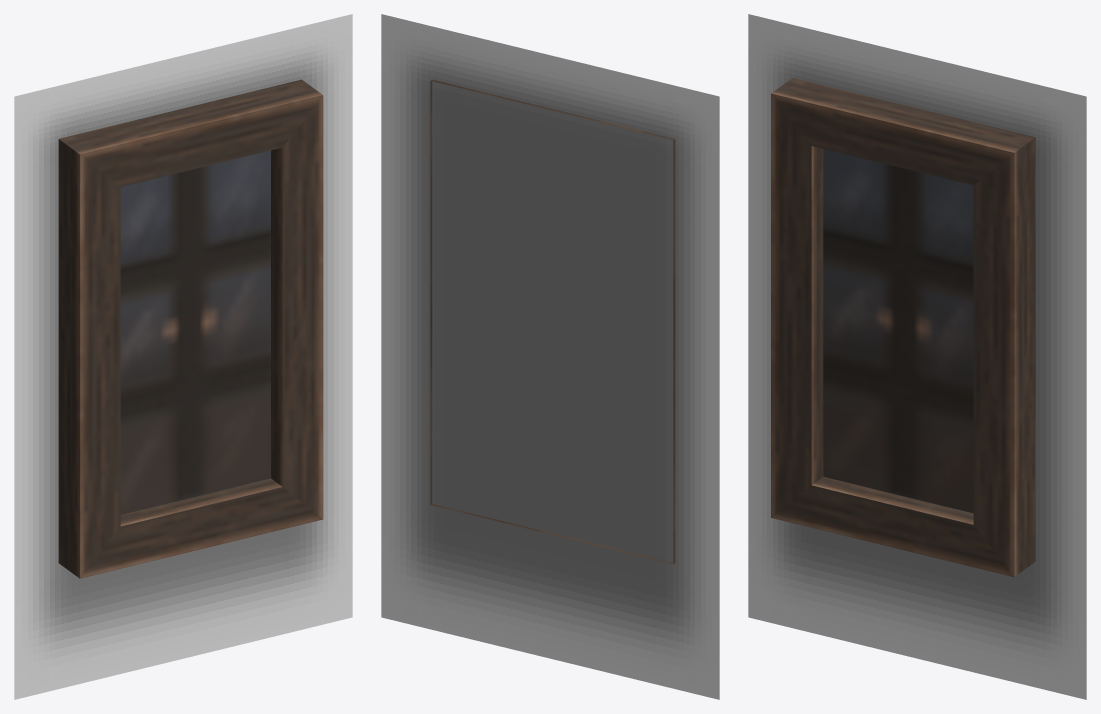
File: Mansion window2.fbx
3 views of the same model, side by side, from view 1: azimuth 30°, elevation 25°; view 2: azimuth 150°, elevation 25°; view 3: azimuth 330°, elevation 25° (orthographic).
Parts seen in each view (by area): view 1: Mansion_window, shadow1; view 2: shadow1, Mansion_window; view 3: Mansion_window, shadow1.
Boxes of the visible parts, x1,y1,x2,y2 form: Mansion_window: (58,79,323,578); shadow1: (14,14,352,699); shadow1: (381,14,719,699); Mansion_window: (430,79,675,564); Mansion_window: (771,78,1035,576); shadow1: (748,14,1086,699).
Bounding box in the file's own units: 1 × 1.7 × 0.1198.
